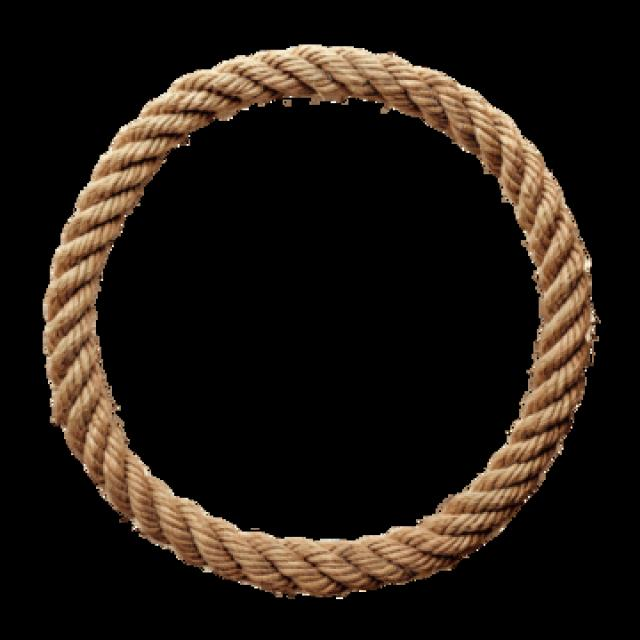Rope: (44, 32, 601, 612)
